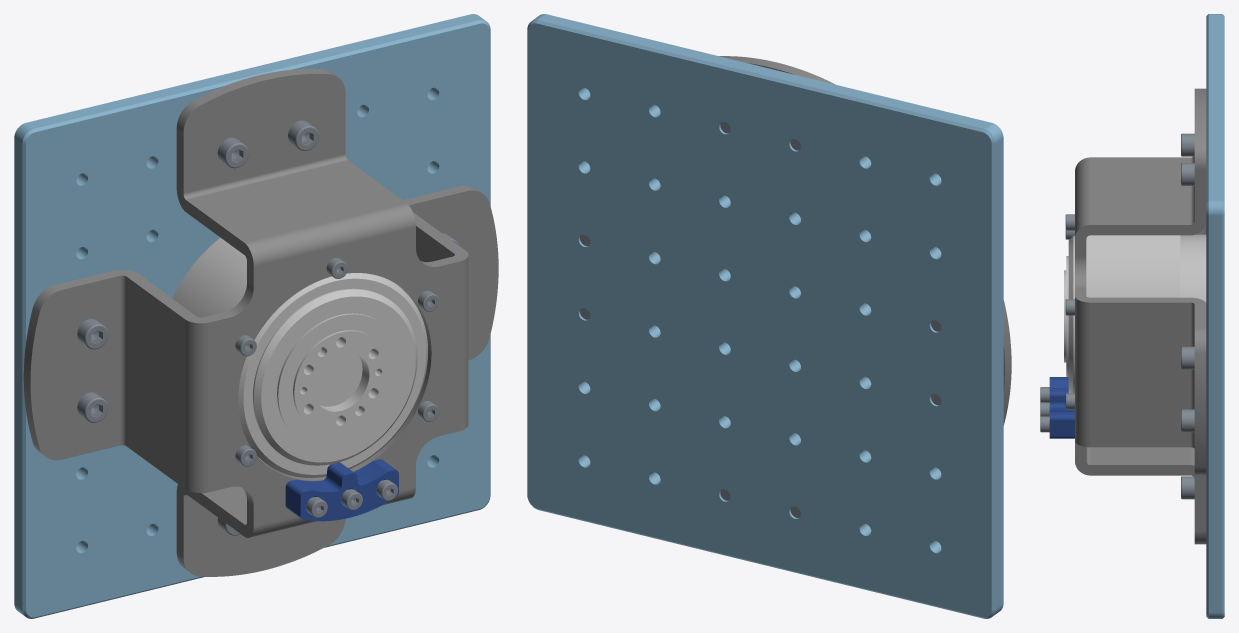
The picture shows the model from 3 angles, left to right: view 1: azimuth 30°, elevation 25°; view 2: azimuth 150°, elevation 25°; view 3: azimuth 270°, elevation 25°; orthographic projection. The views are drawn at different scales.
Visible parts, largest first — view 1: world; view 2: world; view 3: world.
Boxes of the visible parts, left/top/right/bottom form: world: left=14, top=14, right=498, bottom=618; world: left=527, top=14, right=1011, bottom=618; world: left=1040, top=14, right=1224, bottom=618.
Bounding box in the file's own units: 200 × 200 × 80.
